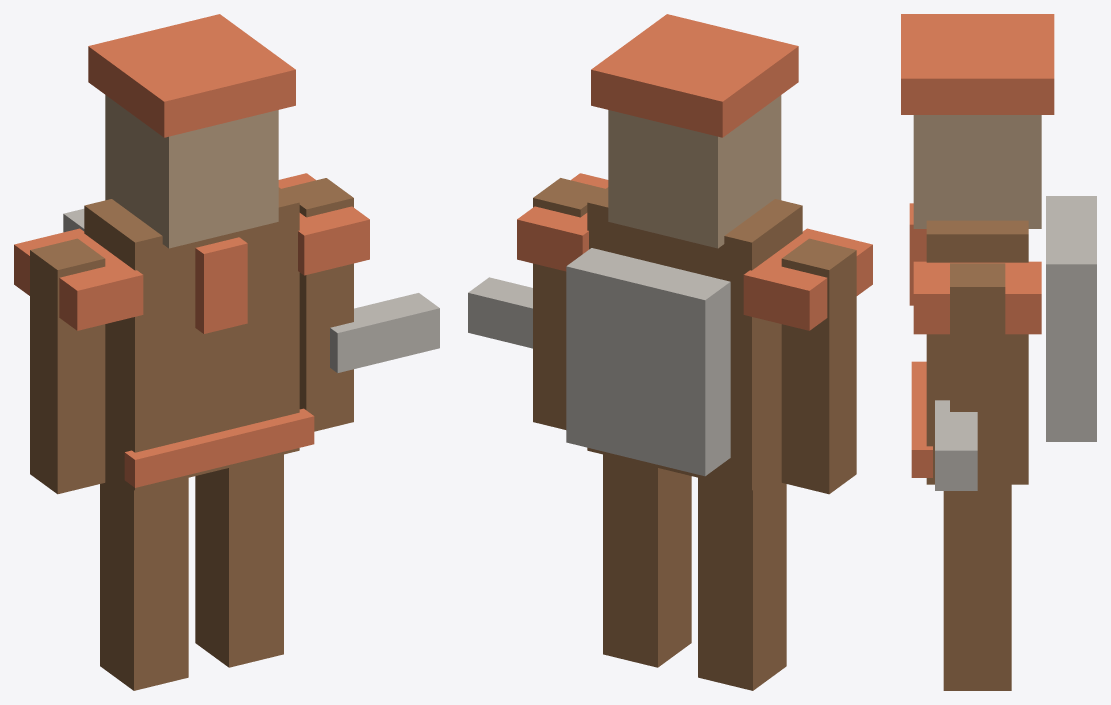
Rendered from 11_draven_runeclasp_operator_at_graveyard.glb.
The picture shows the model from 3 angles, left to right: view 1: azimuth 30°, elevation 25°; view 2: azimuth 150°, elevation 25°; view 3: azimuth 270°, elevation 25°; orthographic projection.
Parts seen in each view (by area): view 1: Draven Runeclasp, Operator at Graveyard; view 2: Draven Runeclasp, Operator at Graveyard; view 3: Draven Runeclasp, Operator at Graveyard.
Part boxes in pixels (x1=…): Draven Runeclasp, Operator at Graveyard: x1=14, y1=14, x2=439, y2=690; Draven Runeclasp, Operator at Graveyard: x1=468, y1=14, x2=872, y2=690; Draven Runeclasp, Operator at Graveyard: x1=901, y1=14, x2=1096, y2=690.
Size of the model in its own units: 1.04 by 1.59 by 0.4647.
